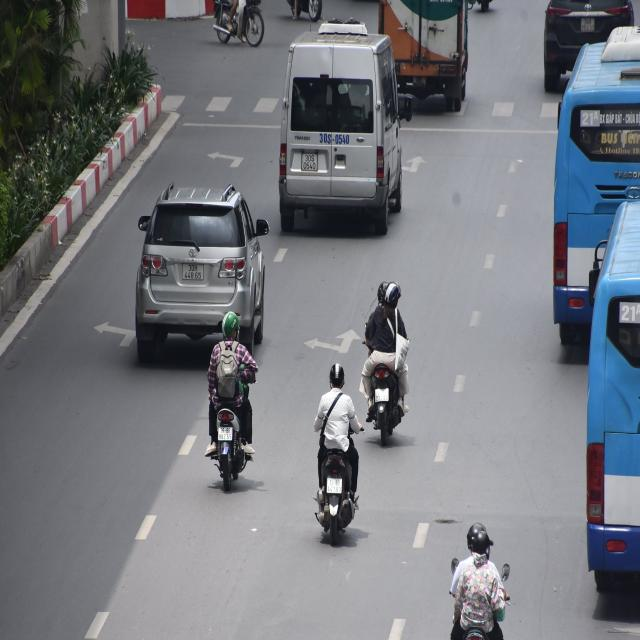car: (277, 22, 408, 237), (131, 173, 272, 363)
motobyte: (312, 358, 362, 550), (210, 308, 256, 495), (448, 518, 515, 640), (366, 277, 414, 442), (212, 1, 270, 53)
